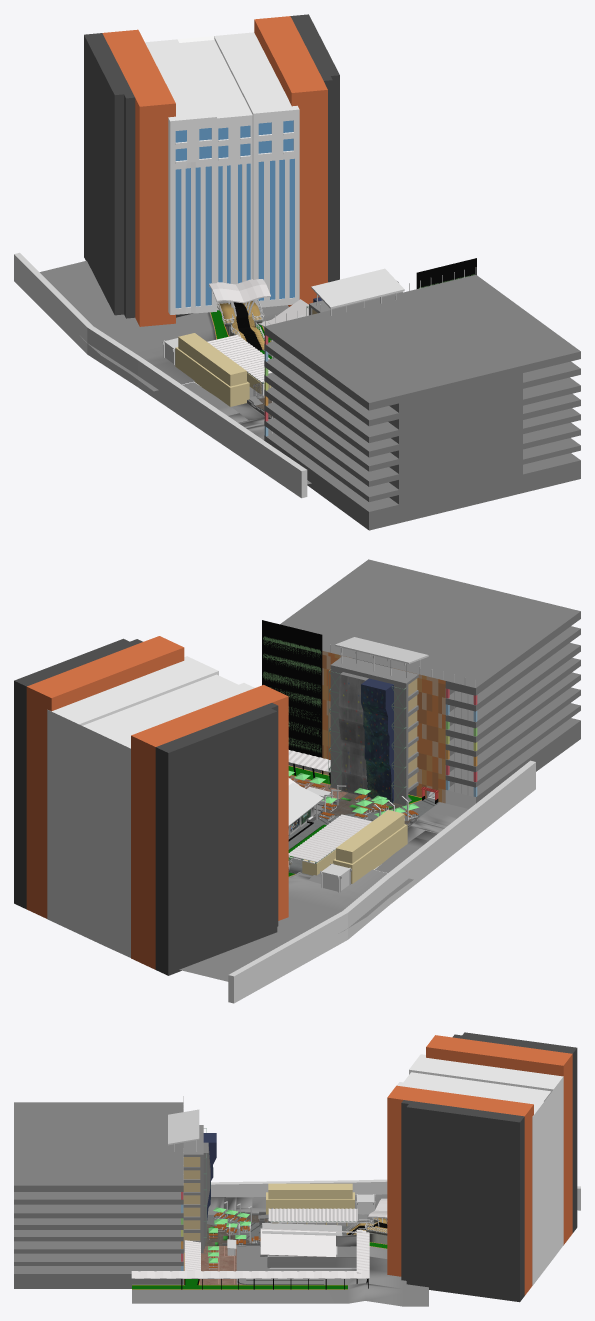
The model's file is Layout_Outdoor5.fbx.
The picture shows the model from 3 angles, top to bottom: view 1: azimuth 30°, elevation 25°; view 2: azimuth 150°, elevation 25°; view 3: azimuth 270°, elevation 25°; orthographic projection. The views are drawn at different scales.
Visible parts, largest first — view 1: Gedung parkir, Cube.021, Cube.024, Cube.023, Cube.096, floor 1, Cube.065, Cube.005, floor 2, stair, Atap Kantin, Cube.025 (+1 smaller); view 2: Gedung parkir, Cube.024, Cube.021, Cube.023, Cube.096, floor 1, Cube.006, floor 2, Cube.007, Cube.065, Cube.008, untitled.007 (+12 smaller); view 3: Gedung parkir, Cube.023, floor 2, Cube.021, Cube.024, Cube.065, Cube.006, Cube.095, Cube.096, atap Musola 2, Mushola, Atap Kantin (+10 smaller).
Part boxes in pixels (x1=…): Gedung parkir: x1=264, y1=275, x2=580, y2=530; Cube.021: x1=145, y1=32, x2=299, y2=314; Cube.024: x1=84, y1=29, x2=175, y2=326; Cube.023: x1=254, y1=14, x2=339, y2=306; Cube.096: x1=14, y1=252, x2=307, y2=498; floor 1: x1=39, y1=260, x2=288, y2=397; Cube.065: x1=175, y1=333, x2=249, y2=406; Cube.005: x1=311, y1=268, x2=404, y2=308; floor 2: x1=182, y1=281, x2=402, y2=484; stair: x1=217, y1=301, x2=264, y2=350; Atap Kantin: x1=207, y1=334, x2=272, y2=382; Cube.025: x1=209, y1=279, x2=270, y2=303; Gedung parkir: x1=280, y1=559, x2=580, y2=808; Cube.024: x1=131, y1=685, x2=288, y2=975; Cube.021: x1=47, y1=656, x2=254, y2=957; Cube.023: x1=14, y1=636, x2=184, y2=918; Cube.096: x1=228, y1=760, x2=535, y2=1003; floor 1: x1=179, y1=822, x2=413, y2=981; Cube.006: x1=330, y1=656, x2=418, y2=805; floor 2: x1=288, y1=765, x2=468, y2=872; Cube.007: x1=361, y1=678, x2=393, y2=803; Cube.065: x1=333, y1=810, x2=407, y2=883; Cube.008: x1=338, y1=672, x2=368, y2=797; untitled.007: x1=262, y1=620, x2=322, y2=674; Gedung parkir: x1=14, y1=1102, x2=183, y2=1288; Cube.023: x1=387, y1=1085, x2=533, y2=1302; floor 2: x1=132, y1=1197, x2=428, y2=1306; Cube.021: x1=397, y1=1054, x2=563, y2=1285; Cube.024: x1=426, y1=1032, x2=577, y2=1245; Cube.065: x1=266, y1=1183, x2=354, y2=1214; Cube.006: x1=183, y1=1125, x2=203, y2=1253; Cube.095: x1=131, y1=1271, x2=369, y2=1278; Cube.096: x1=211, y1=1179, x2=580, y2=1210; atap Musola 2: x1=260, y1=1229, x2=335, y2=1257; Mushola: x1=260, y1=1229, x2=356, y2=1268; Atap Kantin: x1=268, y1=1208, x2=357, y2=1221.
Size of the model in its own units: 10299 by 7668 by 21030.
